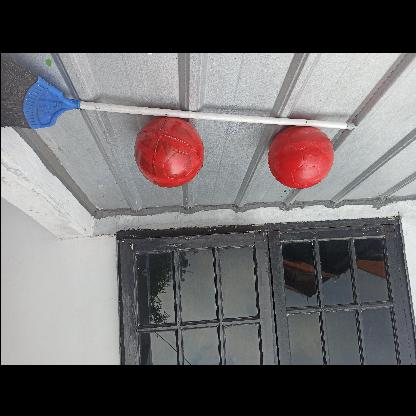red_ball: (133, 117, 203, 187), (268, 124, 336, 190)
